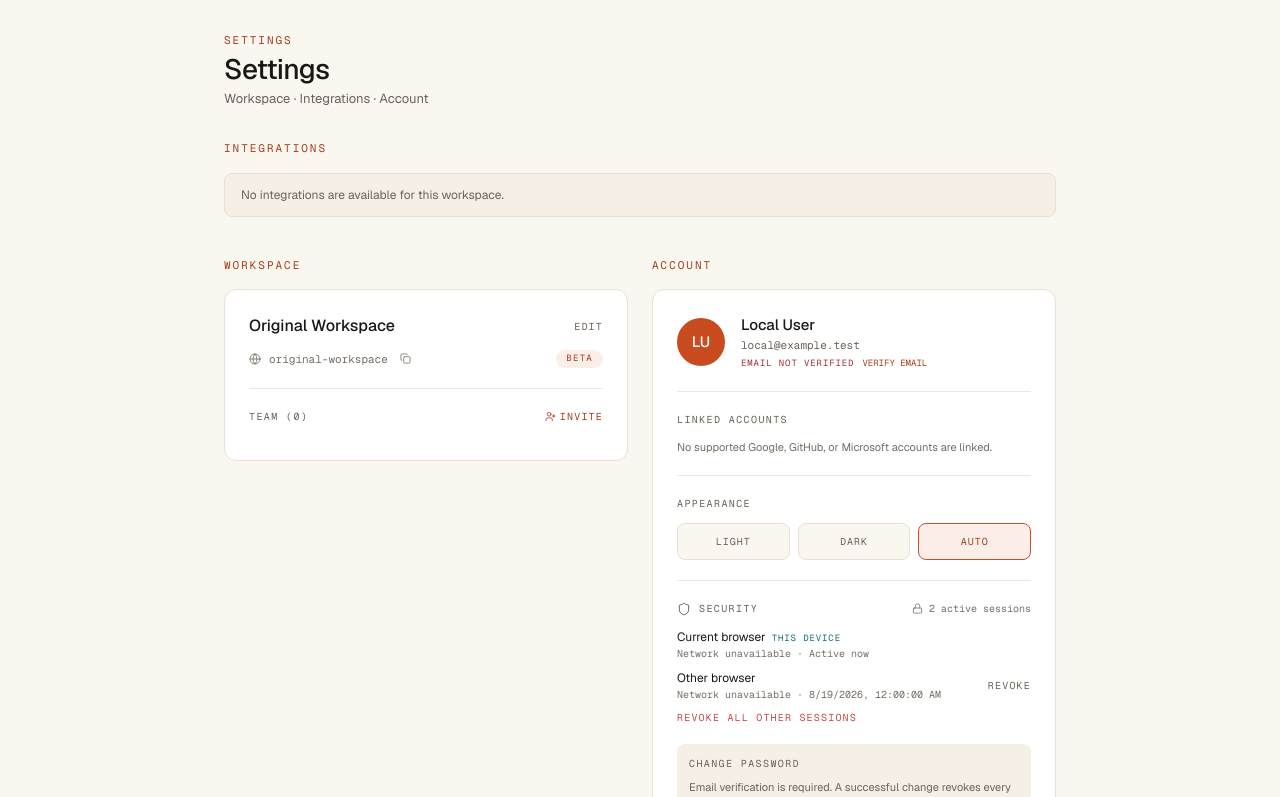
Scenario: Settings workspace persistence › refreshes sessions from authoritative server state after confirmed revoke
This screenshot has width=1280, height=797.
Check: the text "Other browser" is shown, box [677, 670, 756, 686]
Step 1. Click the button "Revoke" → (1009, 686), box [988, 678, 1031, 693]
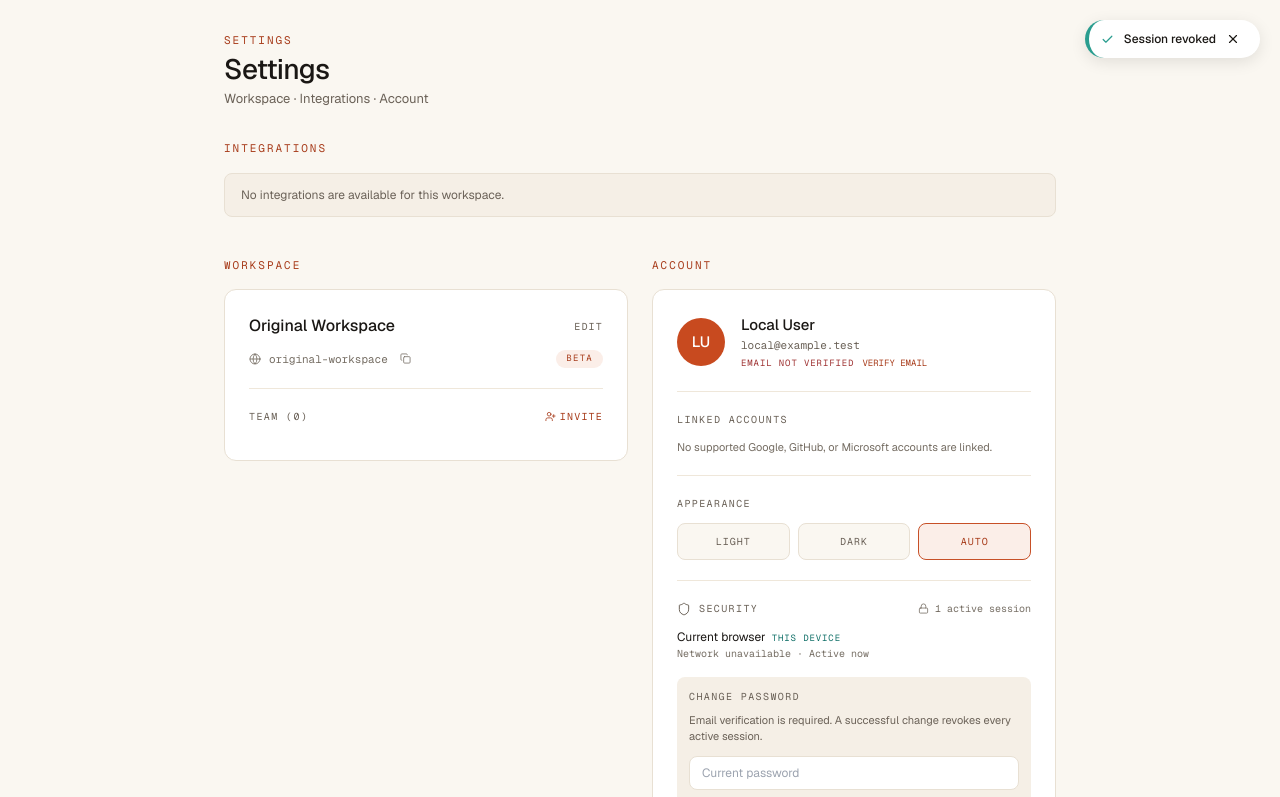
Check: the text "Other browser" is gone
Check: the text "1 active session" is shown, box [935, 601, 1031, 616]
